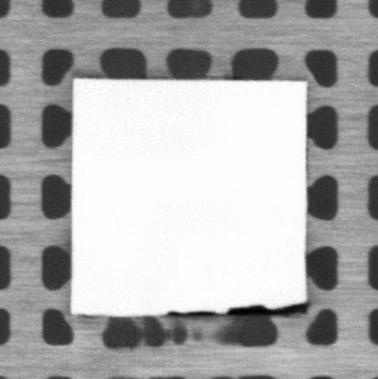DIE_BROKEN: (226, 301, 308, 318), (164, 308, 218, 318)
